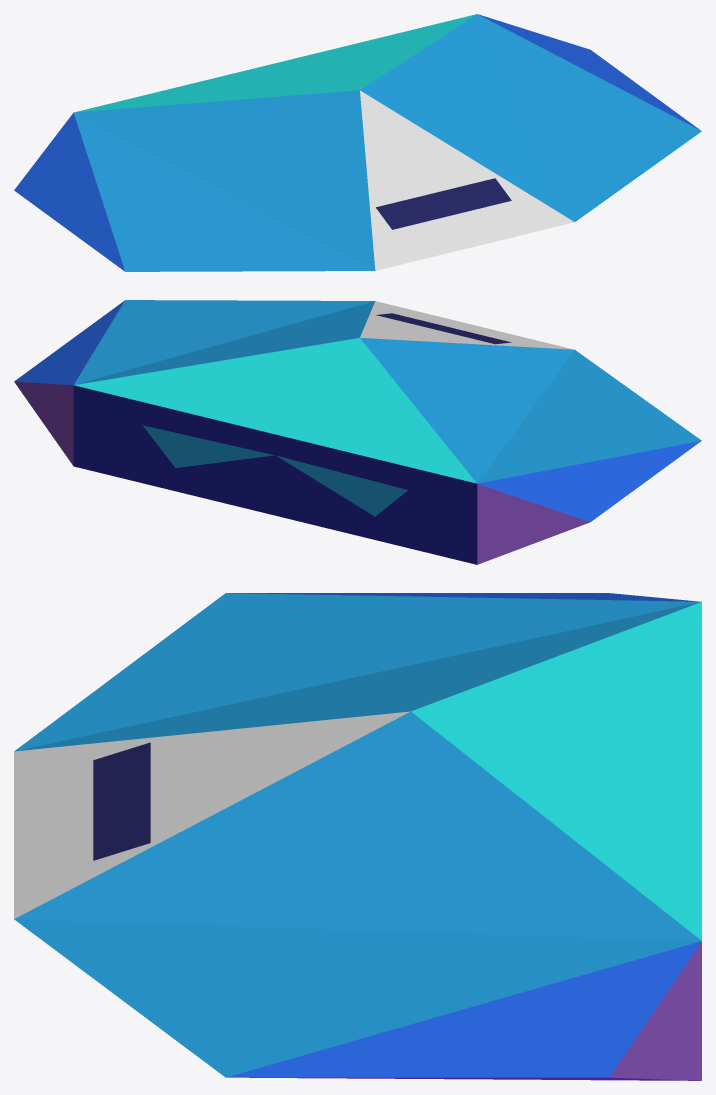
File: arc_cobra_mk1.glb
3 renders of one model, top to bottom at view 1: azimuth 30°, elevation 25°; view 2: azimuth 150°, elevation 25°; view 3: azimuth 270°, elevation 25°, orthographic. The views are drawn at different scales.
Visible parts, largest first — view 1: griff_arcelite_cobra1; view 2: griff_arcelite_cobra1, griff_arcelite_cobra1.001, griff_arcelite_cobra1.002; view 3: griff_arcelite_cobra1.
Part boxes in pixels (x1,y1,x2,y2): griff_arcelite_cobra1: (14, 14, 701, 271); griff_arcelite_cobra1: (14, 300, 701, 564); griff_arcelite_cobra1.001: (142, 425, 274, 467); griff_arcelite_cobra1.002: (276, 455, 407, 516); griff_arcelite_cobra1: (14, 593, 701, 1080).
Size of the model in its own units: 0.7766 by 0.1493 by 0.466.
1 material, 1 textured.
